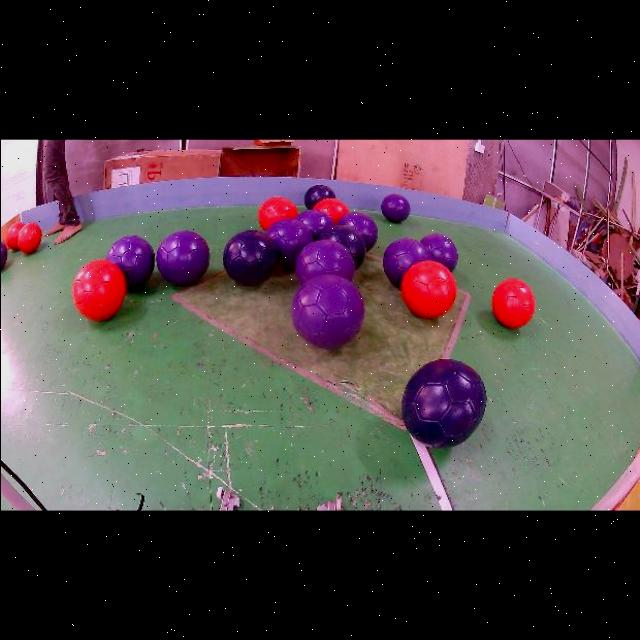B: (401, 358, 486, 447), (221, 229, 277, 286), (318, 224, 365, 268), (303, 184, 335, 208)
P: (290, 274, 363, 348), (156, 229, 209, 285), (295, 239, 354, 285), (105, 234, 154, 288), (381, 237, 430, 285), (265, 218, 312, 268), (336, 211, 376, 251), (419, 233, 458, 272), (295, 208, 334, 239), (380, 193, 409, 221), (0, 241, 7, 269)
R: (72, 259, 125, 319), (401, 260, 456, 317), (491, 278, 535, 327), (258, 196, 298, 230), (313, 198, 348, 224), (16, 221, 41, 254), (5, 221, 23, 249)
